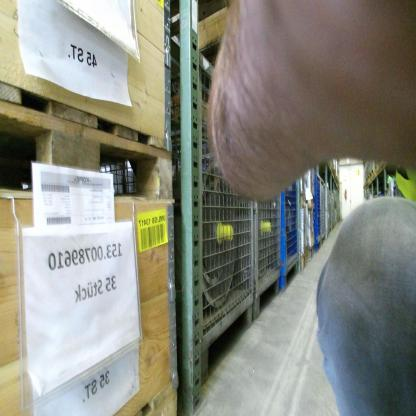pallet: (2, 72, 181, 209), (133, 375, 185, 411), (297, 252, 309, 268), (299, 191, 310, 208), (305, 196, 316, 212), (307, 246, 314, 263)
stillage: (161, 13, 254, 388), (246, 106, 284, 326), (272, 105, 299, 293), (312, 160, 323, 254), (322, 176, 330, 240), (320, 174, 324, 246), (366, 157, 373, 179)
